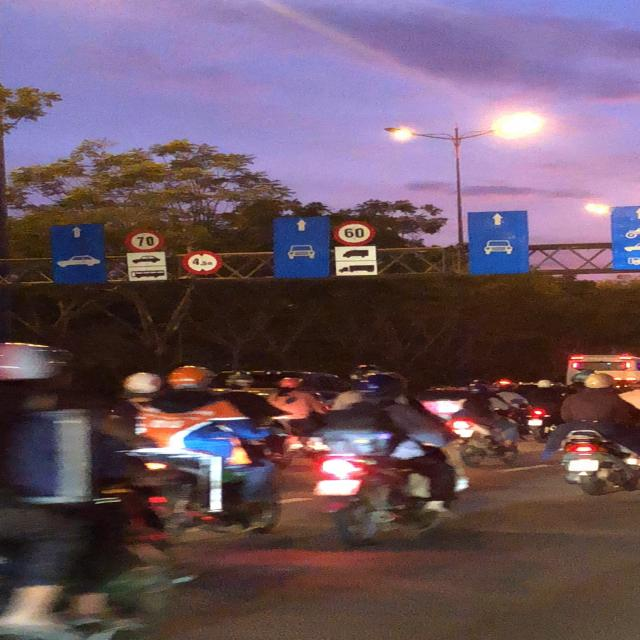Bien bao han che chieu cao: (179, 248, 227, 278)
Bien bao toc do toi da cho phep: (119, 226, 171, 255), (328, 220, 378, 248)
